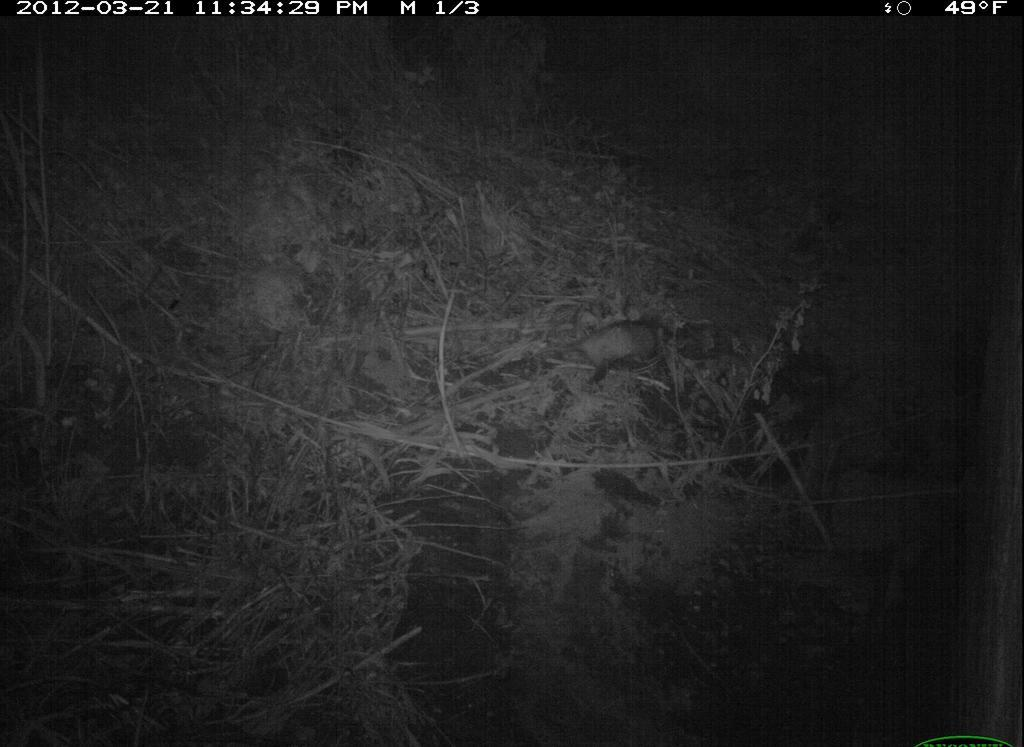opossum: (548, 313, 676, 391)
